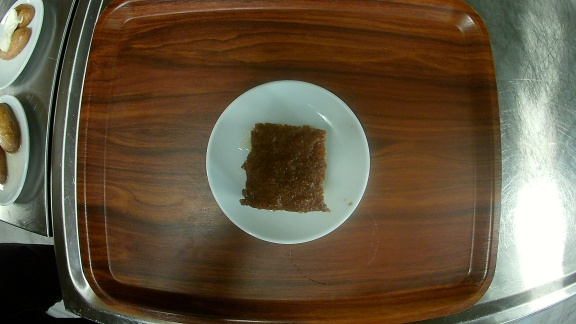ekmekkadayifi: (205, 81, 372, 245)
